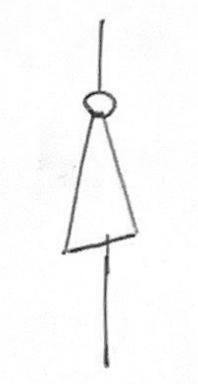NOT: (49, 72, 168, 279)
